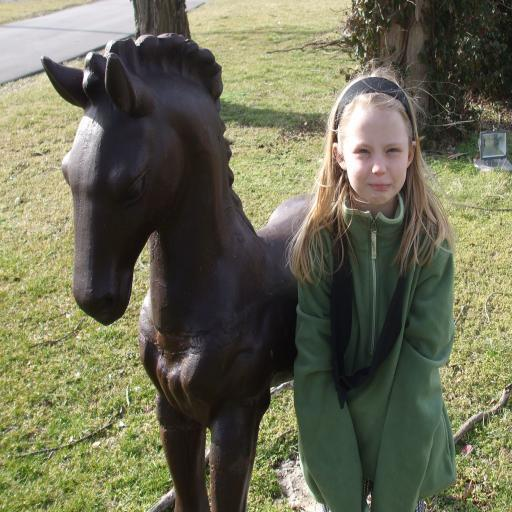horse: (40, 30, 322, 512)
